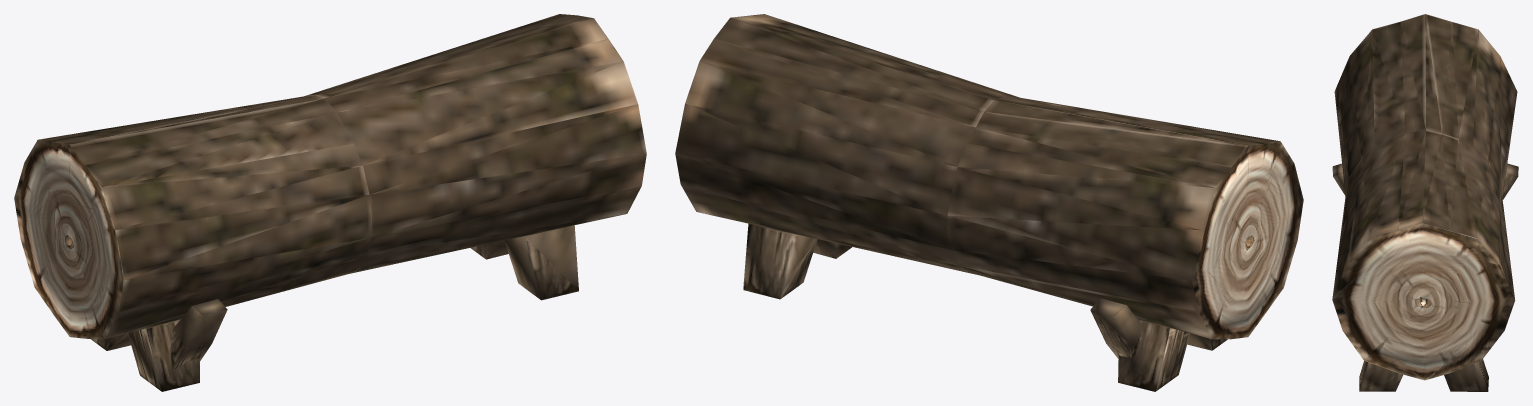
File: prop_log.glb
The picture shows the model from 3 angles, left to right: view 1: azimuth 30°, elevation 25°; view 2: azimuth 150°, elevation 25°; view 3: azimuth 270°, elevation 25°; orthographic projection. The views are drawn at different scales.
Size of the model in its own units: 1.7 by 0.7155 by 0.6354.
Materials: 1 (1 with a texture image).
